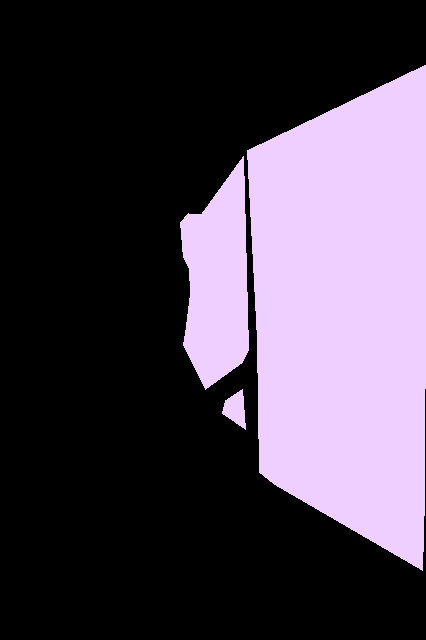Train: (180, 64, 426, 571)
